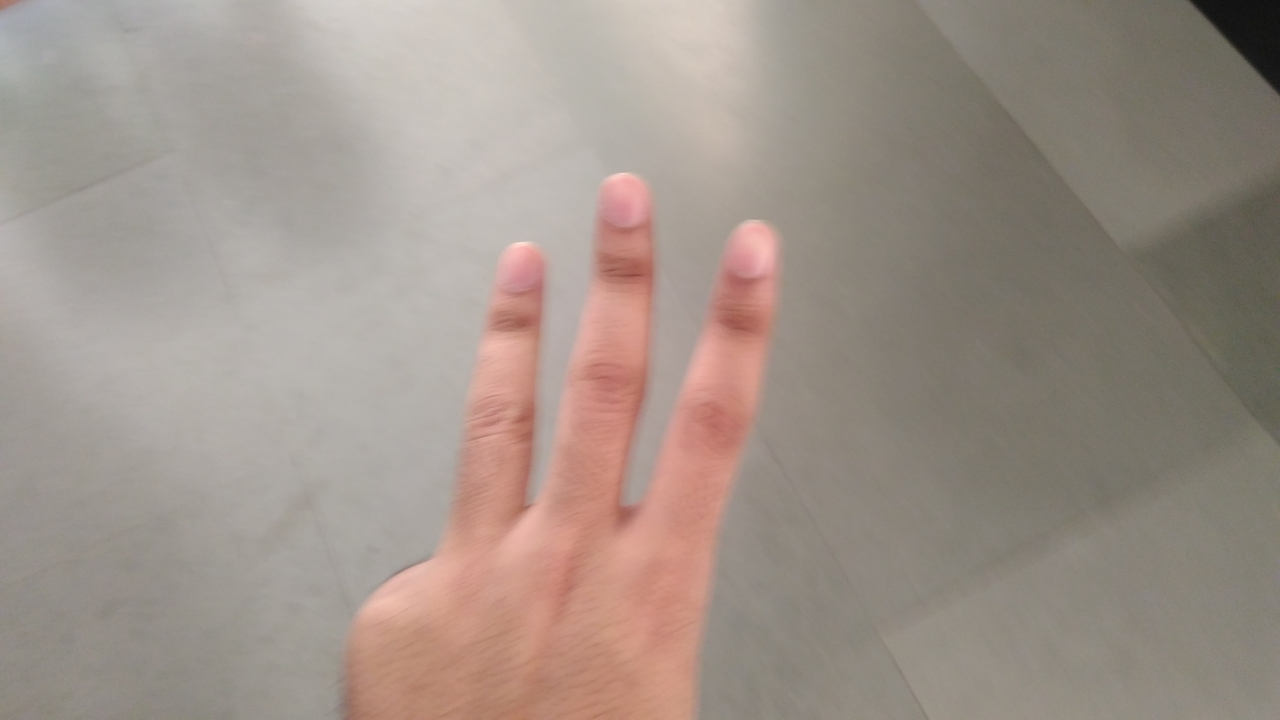fingertip: (716, 212, 786, 286), (590, 166, 658, 232), (486, 232, 550, 300)
